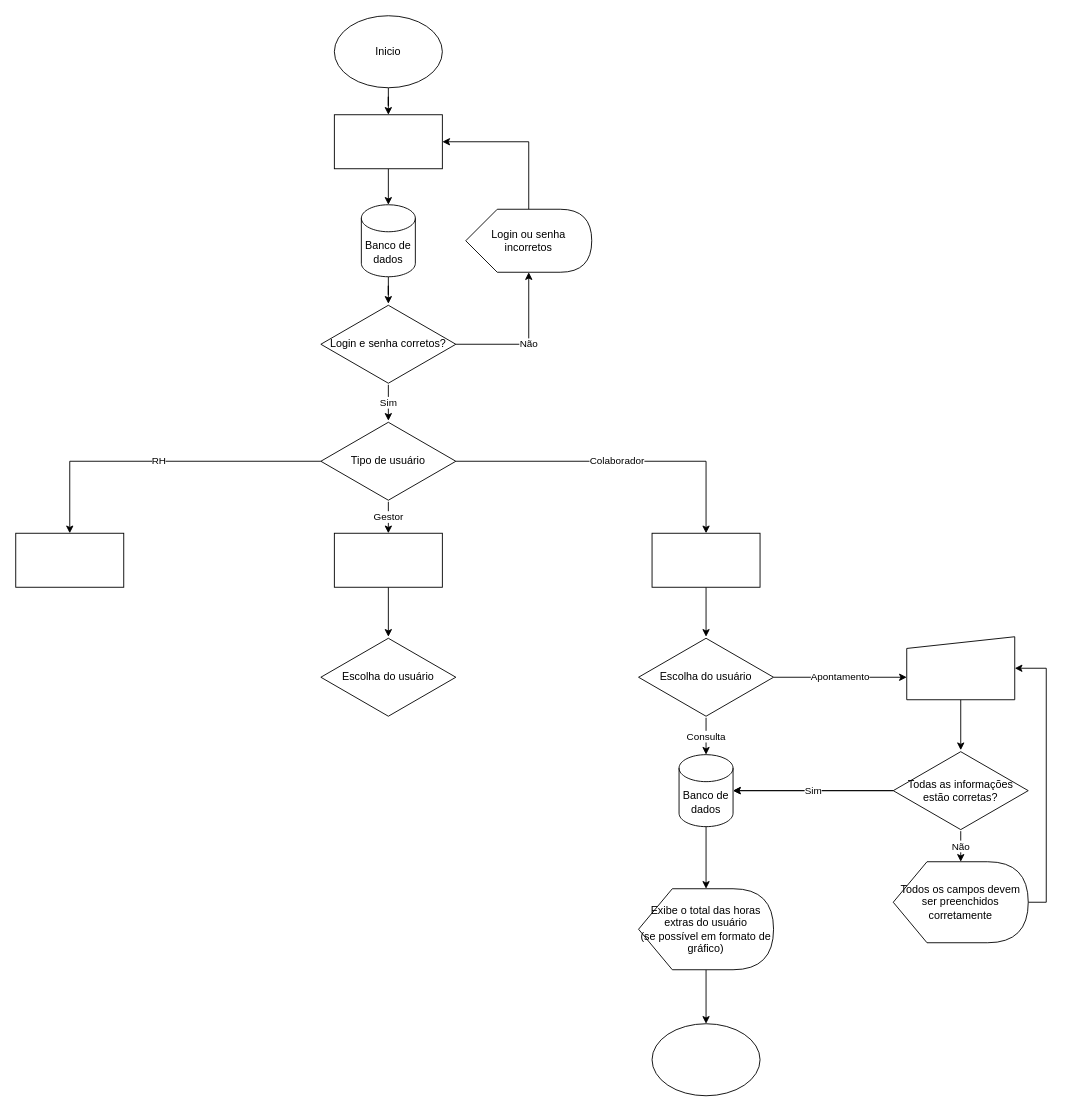
This 1069x1112 diagram has some shape labels left out. Here are the shapes that lost their labels. From the top down, the centre of each, then its label:
pixel 387 141: Login
pixel 69 559: Tela de recursos do usuário RH
pixel 387 559: Tela de recursos do Gestor
pixel 705 559: Tela de recursos do Colaborador
pixel 960 668: Apontamento de hora extra
pixel 705 1059: Fim
